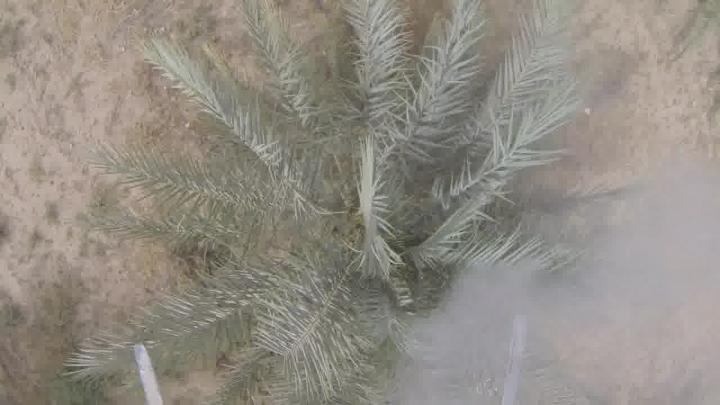Date-Palm-Crown: (223, 71, 531, 363)
